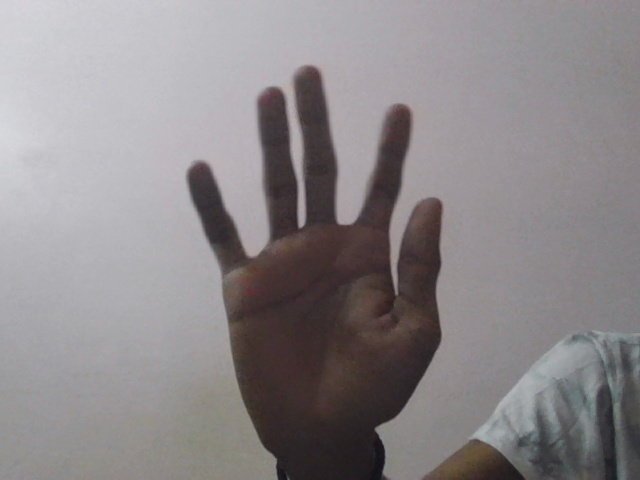hello: (144, 45, 472, 460)
